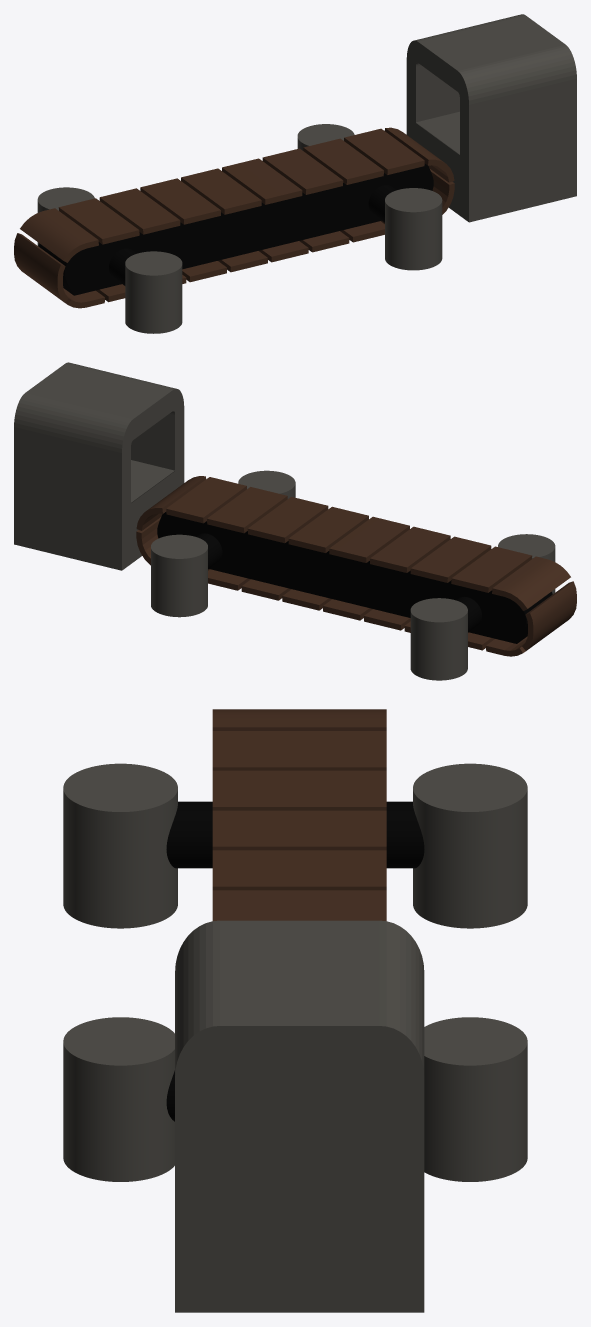
Rendered from ParkEsteira.fbx.
3 views of the same model, one above another, from view 1: azimuth 30°, elevation 25°; view 2: azimuth 150°, elevation 25°; view 3: azimuth 270°, elevation 25° (orthographic). The views are drawn at different scales.
Parts seen in each view (by area): view 1: ParkEsteira; view 2: ParkEsteira; view 3: ParkEsteira.
Part boxes in pixels (x1,y1,x2,y2): ParkEsteira: (14,14,576,333); ParkEsteira: (14,362,576,680); ParkEsteira: (63,709,527,1312).
Size of the model in its own units: 686 by 196 by 270.
Materials: 1 (1 with a texture image).
